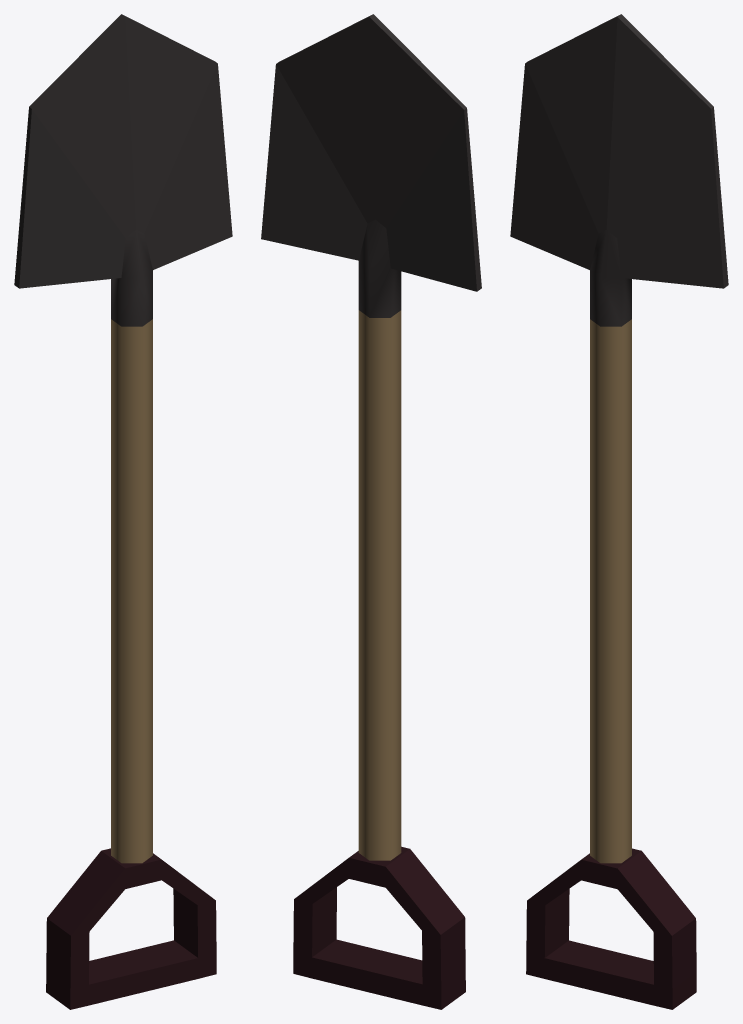
The picture shows the model from 3 angles, left to right: view 1: azimuth 30°, elevation 25°; view 2: azimuth 150°, elevation 25°; view 3: azimuth 330°, elevation 25°; orthographic projection.
Parts seen in each view (by area): view 1: Shovel; view 2: Shovel; view 3: Shovel.
Boxes of the visible parts, bbox=[...] form: Shovel: bbox=[14, 14, 232, 1009]; Shovel: bbox=[261, 14, 481, 1009]; Shovel: bbox=[510, 14, 728, 1009].
Bounding box in the file's own units: 0.1172 × 0.5047 × 0.023.
